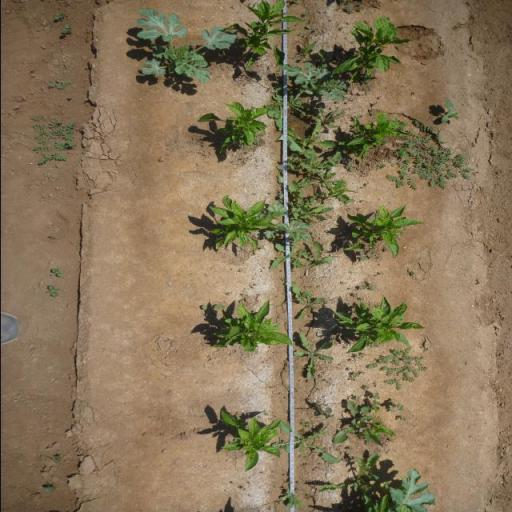plant: (332, 15, 413, 84), (227, 0, 305, 71), (332, 295, 425, 353), (341, 202, 426, 258), (210, 300, 292, 353), (204, 195, 273, 255), (218, 410, 283, 472), (192, 101, 269, 153), (340, 111, 408, 159), (366, 408, 398, 442)
weed: (126, 6, 239, 84), (383, 118, 477, 195), (316, 452, 390, 499), (275, 420, 343, 465), (275, 62, 347, 103), (366, 346, 429, 392), (28, 113, 77, 169), (285, 131, 342, 177), (263, 81, 313, 130), (296, 167, 359, 203), (263, 198, 312, 243), (283, 180, 333, 224), (392, 467, 437, 512), (294, 332, 334, 378), (330, 401, 358, 445), (268, 244, 310, 272), (301, 121, 335, 149), (309, 240, 333, 267), (297, 296, 323, 320), (318, 107, 343, 129), (440, 99, 462, 123), (279, 489, 303, 509), (336, 0, 363, 15), (313, 400, 334, 419), (198, 303, 225, 316), (316, 49, 335, 67), (385, 397, 405, 413), (300, 37, 314, 58), (290, 287, 312, 299), (47, 80, 72, 90), (45, 284, 61, 298), (349, 370, 365, 381), (51, 12, 67, 22), (360, 75, 374, 86), (49, 267, 63, 278), (42, 483, 56, 494), (61, 23, 72, 35), (374, 163, 388, 171), (366, 391, 380, 399), (354, 352, 368, 359), (305, 24, 317, 32), (367, 399, 380, 406), (52, 454, 62, 463), (340, 158, 354, 164), (368, 280, 376, 290), (356, 284, 367, 291), (368, 342, 378, 349), (343, 338, 351, 346), (346, 164, 356, 170), (300, 422, 310, 428), (350, 395, 360, 400), (398, 415, 408, 420), (409, 270, 417, 276), (350, 292, 358, 298), (420, 346, 428, 352), (371, 100, 378, 106), (339, 280, 346, 286), (370, 106, 374, 116), (357, 256, 365, 261), (361, 385, 369, 390), (254, 140, 260, 146), (366, 250, 375, 254), (262, 410, 268, 416), (239, 486, 245, 492), (302, 10, 308, 15), (352, 456, 357, 462), (66, 95, 73, 99), (365, 440, 370, 445), (356, 114, 362, 118), (430, 80, 438, 83), (259, 245, 265, 249), (366, 255, 372, 259), (358, 297, 364, 301), (358, 251, 365, 254), (383, 248, 388, 252), (347, 447, 352, 451), (224, 292, 232, 294), (274, 72, 280, 74), (379, 272, 385, 274), (346, 288, 351, 290)
